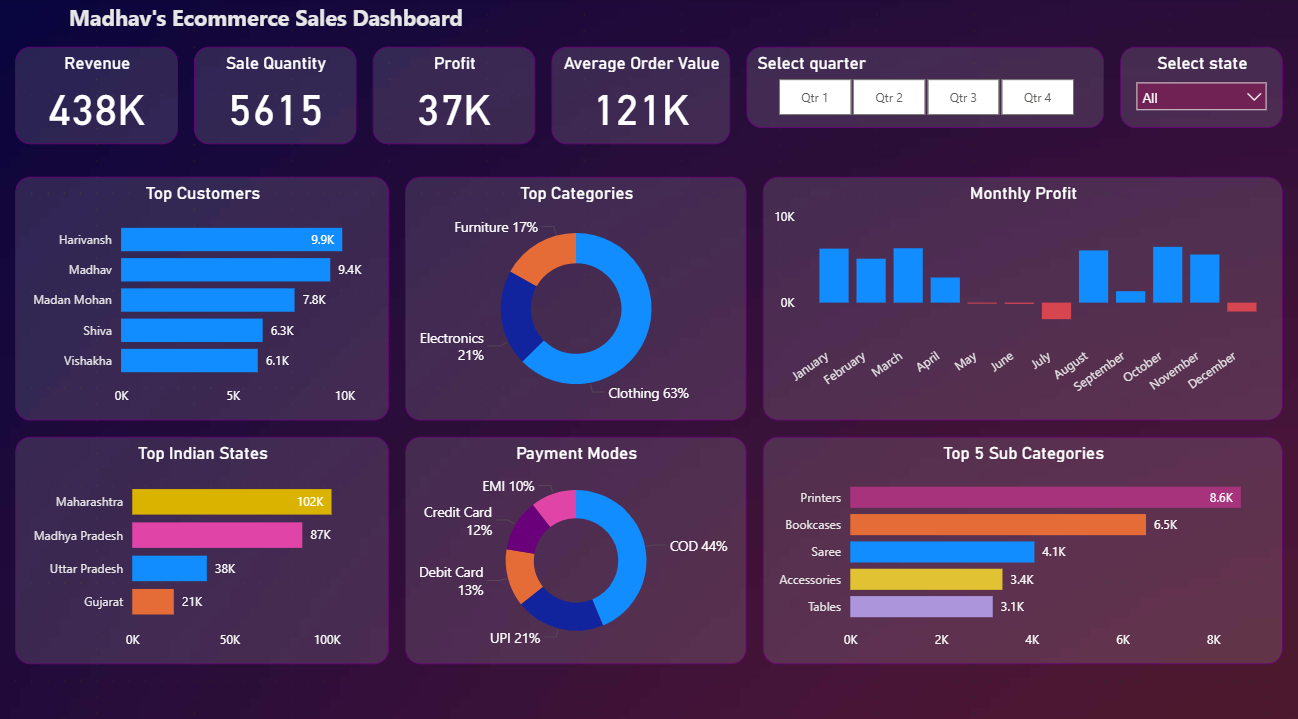

What the dashboard file says about the page in this screenshot:
{"tool":"powerbi","page":{"name":"Dashboard","canvas":[1280,720],"ordinal":0},"visuals":[{"type":"textbox","box":[64,0,448,64],"z":0},{"type":"columnChart","title":"Monthly Profit","fields":{"Y":["Details.Profit"],"Category":["Orders.Order Date.Variation.Date Hierarchy.Month"]},"box":[752,176,512,240],"z":1000},{"type":"barChart","title":"Top 5 Sub Categories","fields":{"Category":["Details.Sub-Category"],"Y":["Details.Profit"]},"box":[752,432,512,224],"z":2000},{"type":"donutChart","title":"Top Categories","fields":{"Category":["Details.Category"],"Y":["Details.Quantity"]},"box":[400,176,336,240],"z":3000},{"type":"donutChart","title":"Payment Modes","fields":{"Category":["Details.PaymentMode"],"Y":["Details.Quantity"]},"box":[400,432,336,224],"z":4000},{"type":"card","title":"Revenue","fields":{"Values":["Details.Amount"]},"box":[16,48,160,96],"z":5000},{"type":"card","title":"Sale Quantity","fields":{"Values":["Details.Quantity"]},"box":[192,48,160,96],"z":6000},{"type":"card","title":"Profit","fields":{"Values":["Details.Profit"]},"box":[368,48,160,96],"z":7000},{"type":"card","title":"Average Order Value","fields":{"Values":["Details.AverageOrderValue"]},"box":[544,48,176,96],"z":8000},{"type":"barChart","title":"Top Indian States","fields":{"Category":["Orders.State"],"Y":["Details.Amount"]},"box":[16,432,368,224],"z":8001},{"type":"barChart","title":"Top Customers","fields":{"Y":["Details.Amount"],"Category":["Orders.CustomerName"]},"box":[16,176,368,240],"z":8002},{"type":"slicer","title":"Select quarter","fields":{"Values":["Orders.Order Date.Variation.Date Hierarchy.Quarter"]},"box":[736,48,352,80],"z":8003},{"type":"slicer","title":"Select state","fields":{"Values":["Orders.State"]},"box":[1104,48,160,80],"z":8004}]}

Visuals, with their boxes in screenshot pixels (x1, y1, x2, y2), scaled from the page's 1280x720 canvas onto the 1298x719 screenshot:
textbox: box(65, 0, 519, 64)
"Monthly Profit" columnChart: box(763, 176, 1282, 415)
"Top 5 Sub Categories" barChart: box(763, 431, 1282, 655)
"Top Categories" donutChart: box(406, 176, 746, 415)
"Payment Modes" donutChart: box(406, 431, 746, 655)
"Revenue" card: box(16, 48, 178, 144)
"Sale Quantity" card: box(195, 48, 357, 144)
"Profit" card: box(373, 48, 535, 144)
"Average Order Value" card: box(552, 48, 730, 144)
"Top Indian States" barChart: box(16, 431, 389, 655)
"Top Customers" barChart: box(16, 176, 389, 415)
"Select quarter" slicer: box(746, 48, 1103, 128)
"Select state" slicer: box(1120, 48, 1282, 128)
